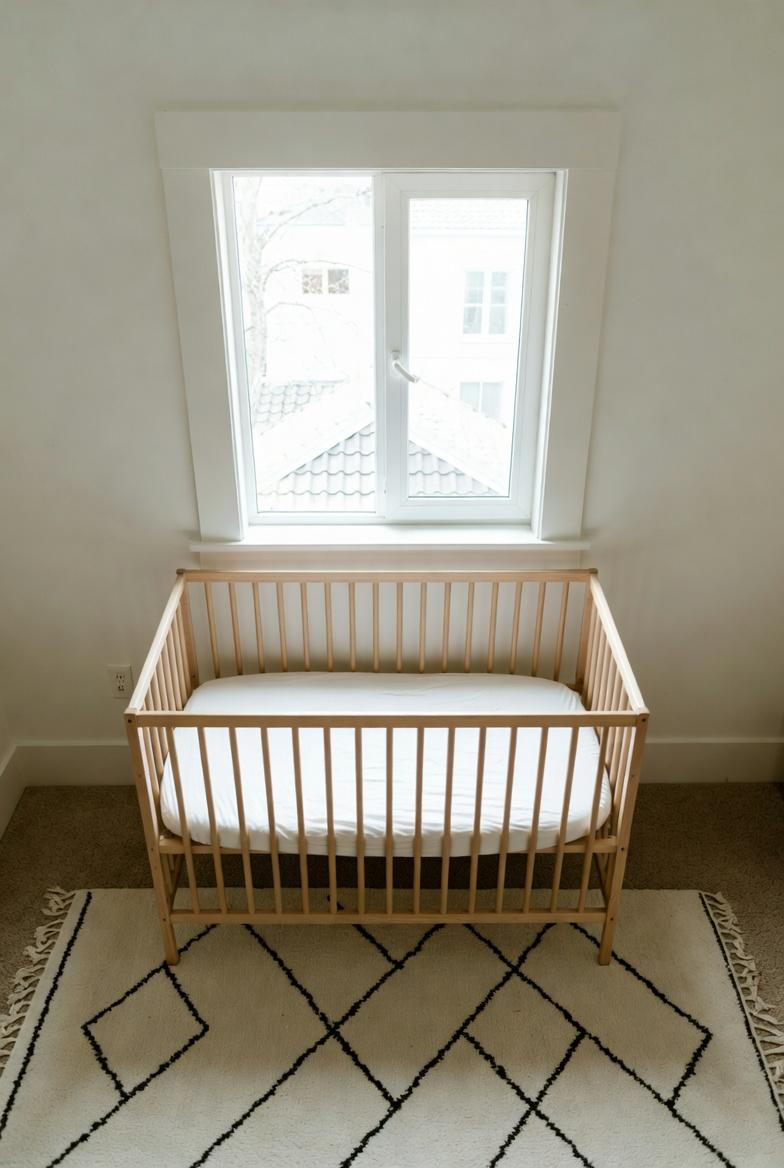crib: (125, 570, 648, 964)
